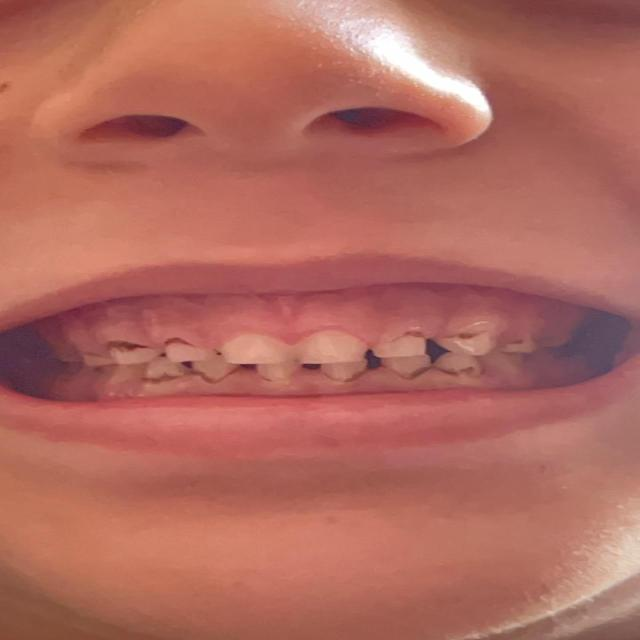tooth: (217, 338, 283, 364), (304, 340, 360, 362), (445, 336, 495, 354), (155, 342, 200, 360), (378, 340, 424, 356), (386, 357, 426, 375), (442, 358, 478, 377), (150, 364, 184, 382), (115, 342, 145, 362), (320, 364, 361, 378), (252, 365, 290, 379), (197, 368, 232, 380), (508, 340, 536, 350)
